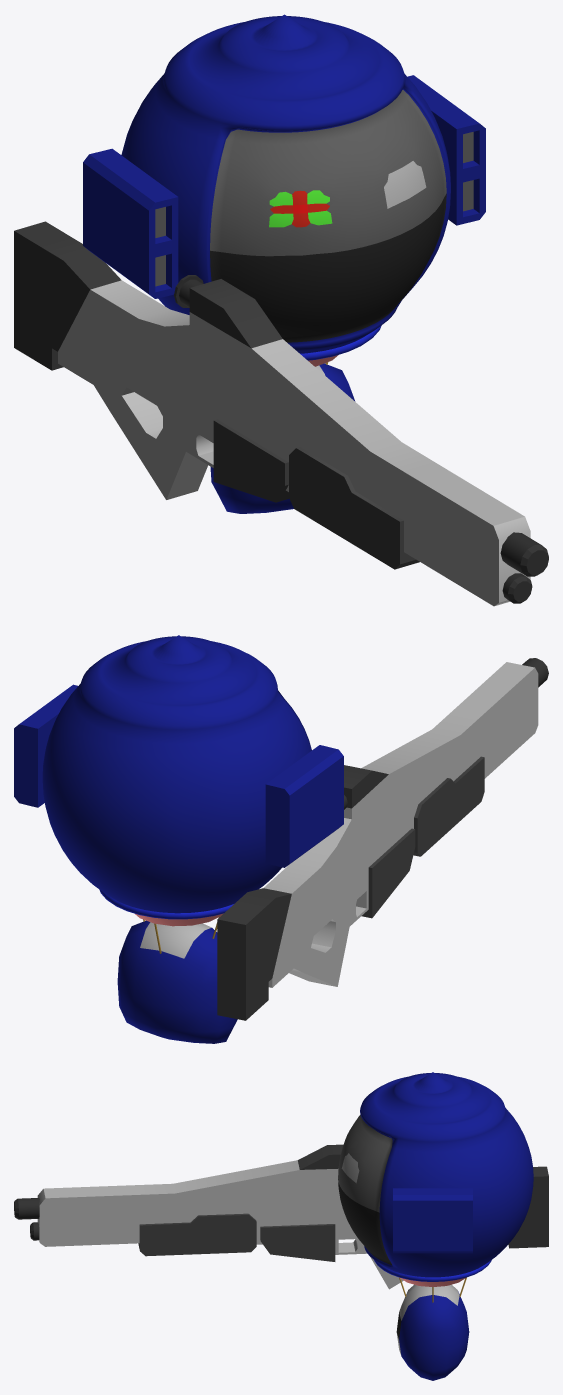
File: Lv5_FB_Razerlist.FBX
The picture shows the model from 3 angles, top to bottom: view 1: azimuth 30°, elevation 25°; view 2: azimuth 150°, elevation 25°; view 3: azimuth 270°, elevation 25°; orthographic projection. The views are drawn at different scales.
Parts seen in each view (by area): view 1: Sphere002, Line004, Box001, Box003, Box002, Box004, Line005, Line006; view 2: Sphere002, Line004, Box004, Box001, Box003, Box002, Shape001, Sphere001; view 3: Sphere002, Line004, Box004, Box001, Box003, Box002, Shape001, Line005.
Part boxes in pixels (left/top/right/bottom): Sphere002: left=121, top=14, right=450, bottom=353; Line004: left=14, top=221, right=530, bottom=606; Box001: left=83, top=75, right=485, bottom=298; Box003: left=289, top=447, right=419, bottom=569; Box002: left=213, top=419, right=289, bottom=502; Box004: left=210, top=363, right=355, bottom=513; Line005: left=500, top=532, right=548, bottom=576; Line006: left=502, top=573, right=532, bottom=603; Sphere002: left=42, top=635, right=311, bottom=913; Line004: left=217, top=662, right=538, bottom=1020; Box004: left=117, top=920, right=237, bottom=1043; Box001: left=14, top=684, right=343, bottom=867; Box003: left=413, top=756, right=484, bottom=856; Box002: left=361, top=828, right=415, bottom=918; Shape001: left=99, top=889, right=233, bottom=919; Sphere001: left=135, top=913, right=223, bottom=926; Sphere002: left=338, top=1072, right=533, bottom=1277; Line004: left=37, top=1144, right=548, bottom=1289; Box004: left=396, top=1284, right=469, bottom=1380; Box001: left=393, top=1188, right=472, bottom=1253; Box003: left=138, top=1213, right=256, bottom=1256; Box002: left=260, top=1224, right=335, bottom=1261; Shape001: left=374, top=1260, right=491, bottom=1281; Line005: left=14, top=1198, right=39, bottom=1219.
Bounding box in the file's own units: 165 × 225 × 368.
